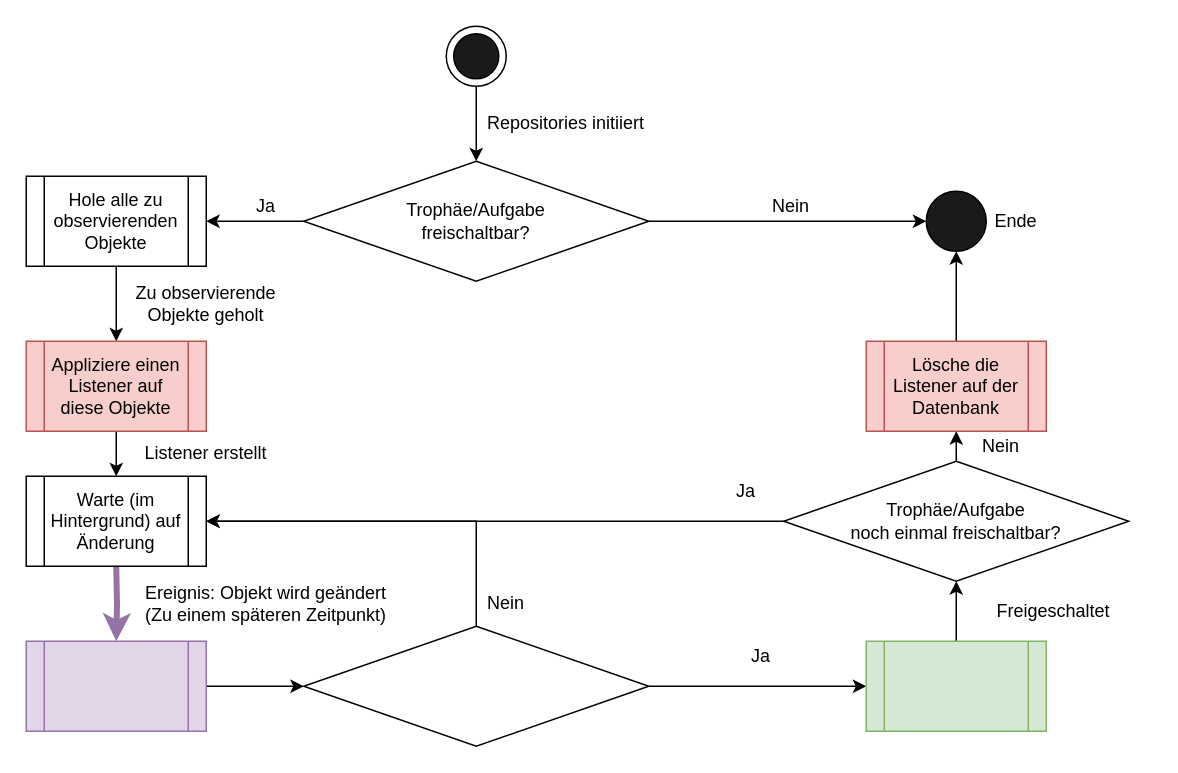
The diagram is 1178 pixels wide and 773 high, and some of its shapes have lost their labels. Each missing label, with the centre of its shape:
"Freischaltung der Trophäe" goes at (955,685).
"Objekte haben sich geändert" goes at (115,685).
"Soll Trophäe/Aufgabe freigeschaltet werden?" goes at (475,685).
